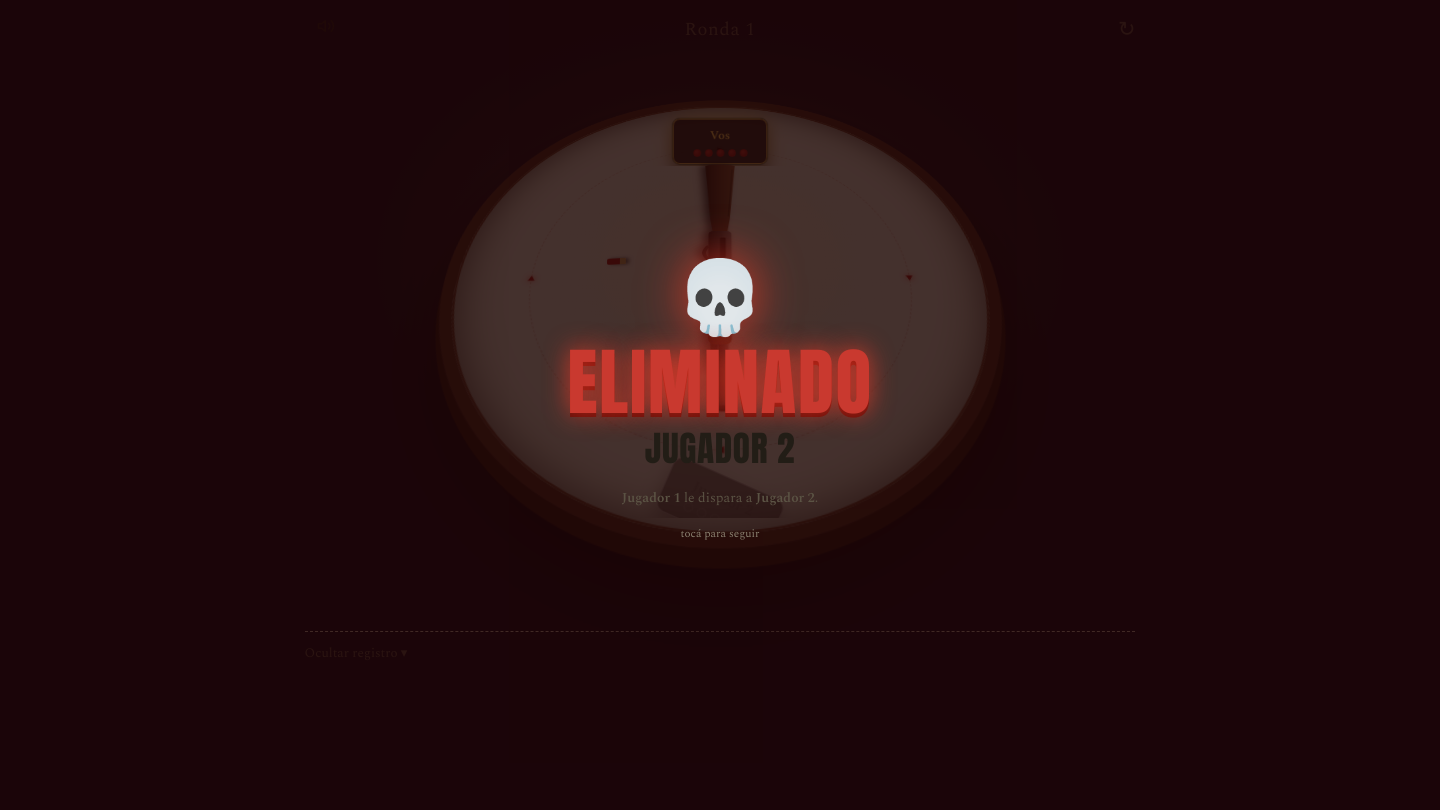
Recámara RoundView — duel › the shot that takes someone's last life plays the elimination instead of the ordinary banner
This screenshot has width=1440, height=810.
Expected: the text "Eliminado" is shown, [567,347,873,417]
Expected: the 1st text "Jugador 2" is shown, [645,422,795,475]
Click the button with aria-label "Continuar": (720, 534) [674,524,766,545]
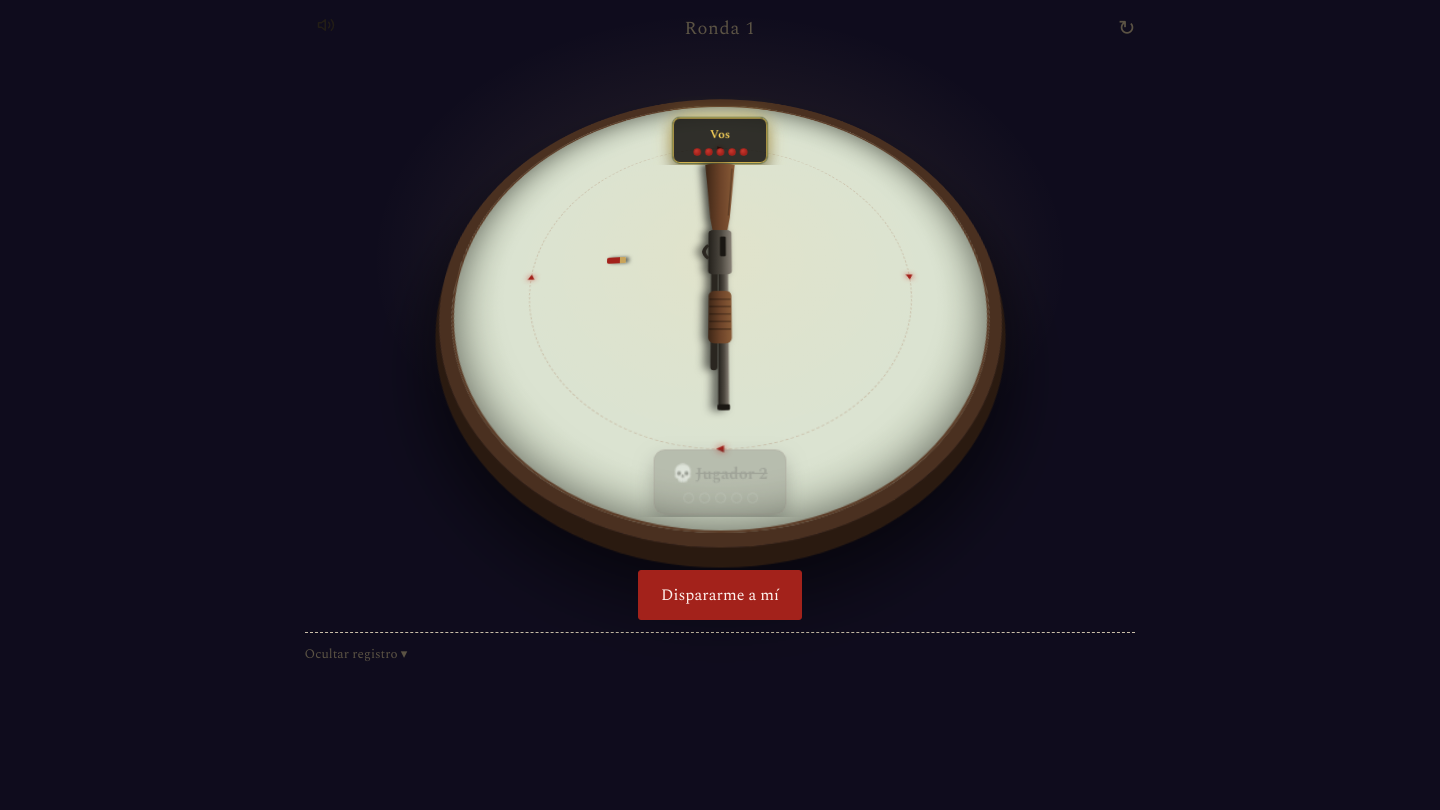
Expected: the message "💀 Eliminado Jugador 2 Jugador 1 le dispara a Jugador 2. tocá para seguir" is gone
